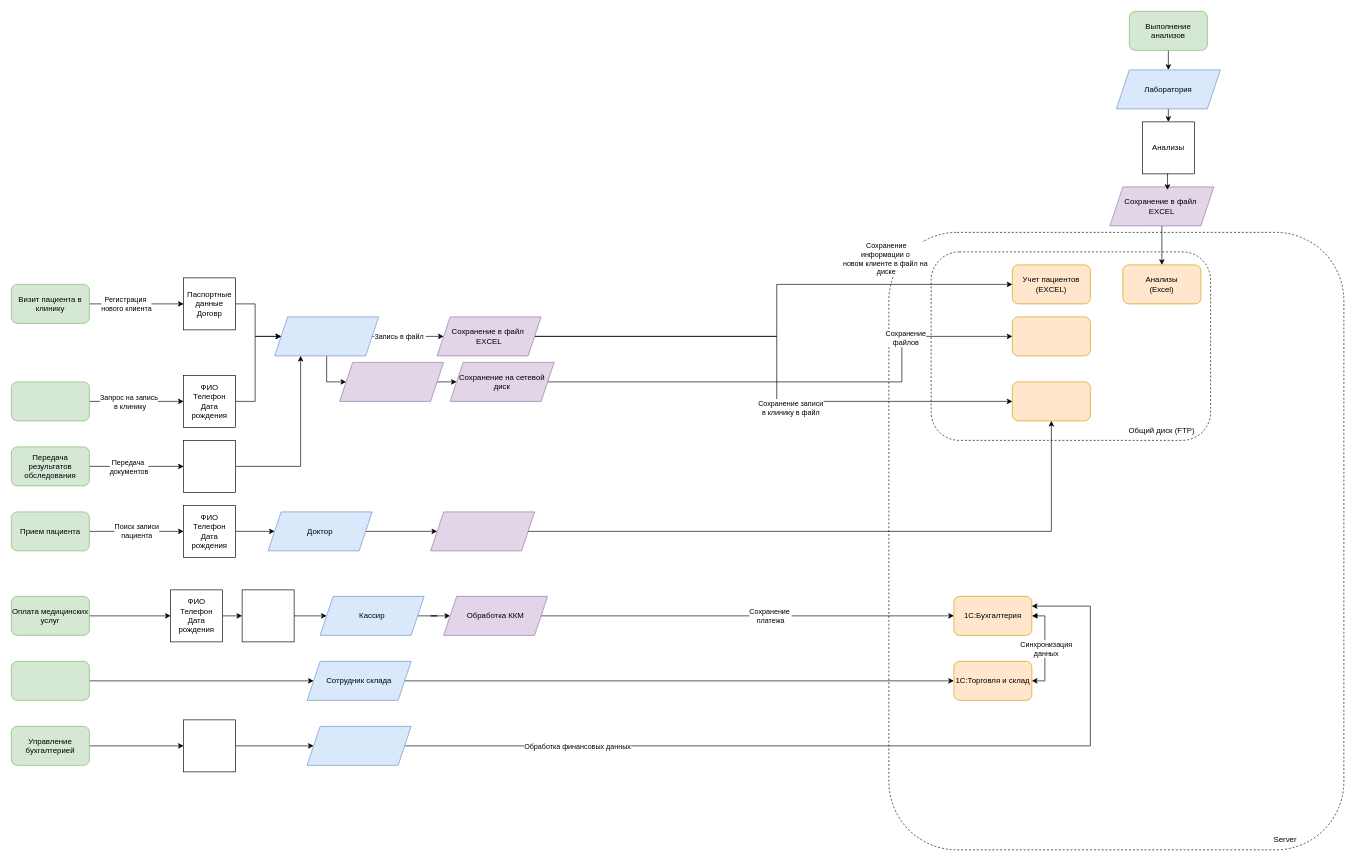
Image size: 1355x861. Some labels were removed from this diagram. The centre of each missing label's shape, as x and y in pixels:
"Администратор" goes at point 326,336.
"Бухгалтер" goes at point 358,745.
"Заказ оборудования" goes at point 50,680.
"Звонок пациента" goes at point 50,401.
"Перечень услуг" goes at point 267,615.
"Просмотр в файле EXCEL" goes at point 482,531.
"Расписание приемов (EXCEL)" goes at point 1051,401.
"Рецепты Заключения Направления" goes at point 209,466.
"Сканирование документов" goes at point 391,381.
"Счета Оплата Транзакции отчетность" goes at point 209,745.
"Файлы пациентов (EXCEL)" goes at point 1051,336.
